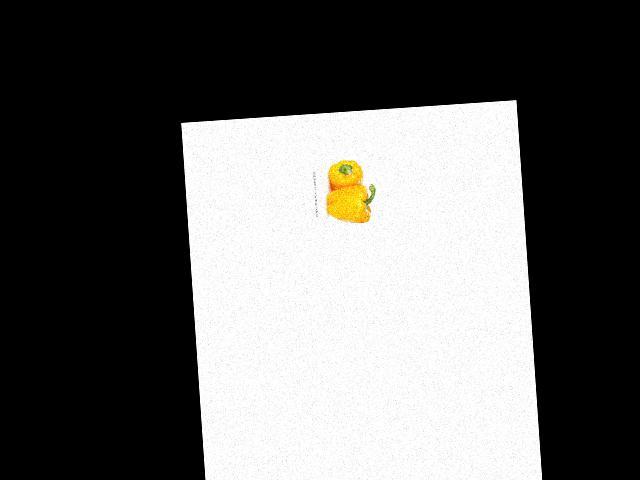bell_pepper: (325, 158, 366, 192)
